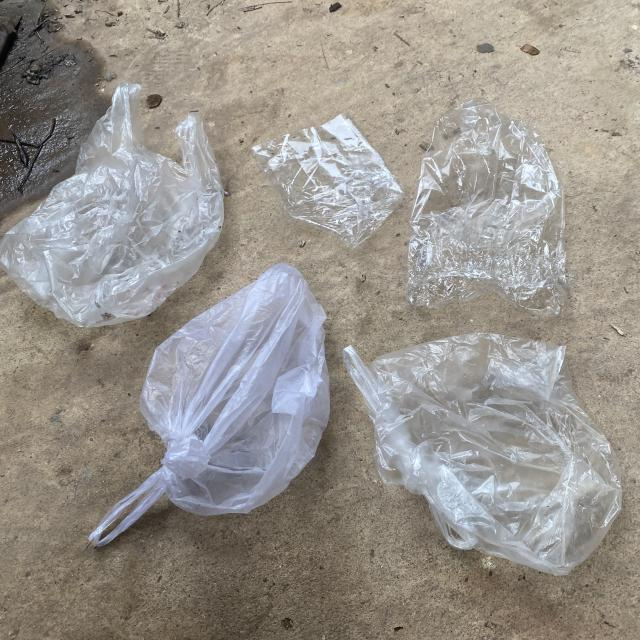Single-layer Plastic: (89, 264, 330, 546), (344, 334, 621, 575), (0, 82, 224, 328), (406, 99, 566, 315), (251, 115, 402, 249)
